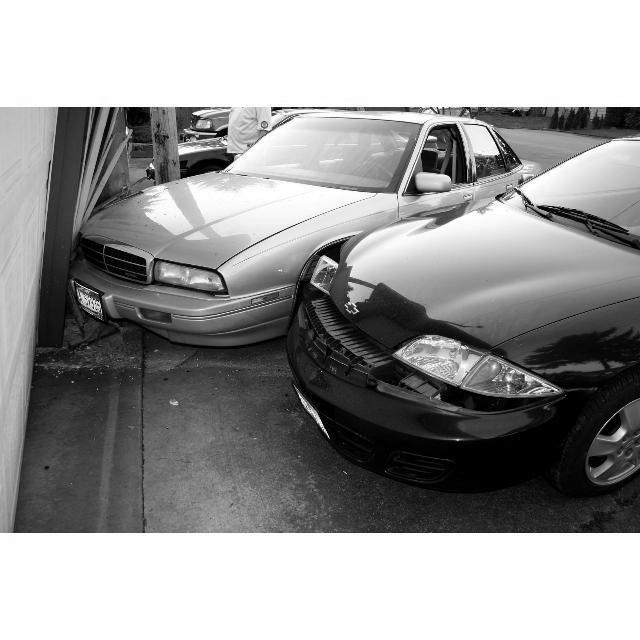front-bumper-dent: (270, 286, 520, 391)
